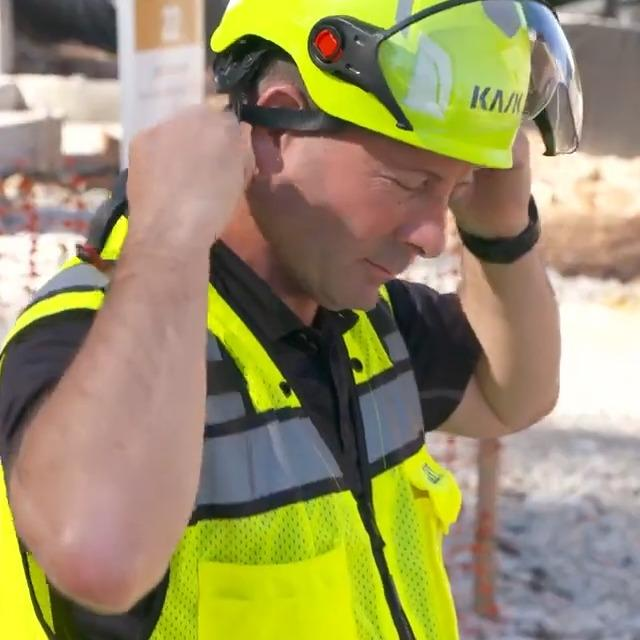Hardhat: (207, 0, 531, 163)
NO-Mask: (245, 90, 448, 314)
Person: (0, 0, 561, 640)
Safety Vest: (0, 202, 465, 640)
